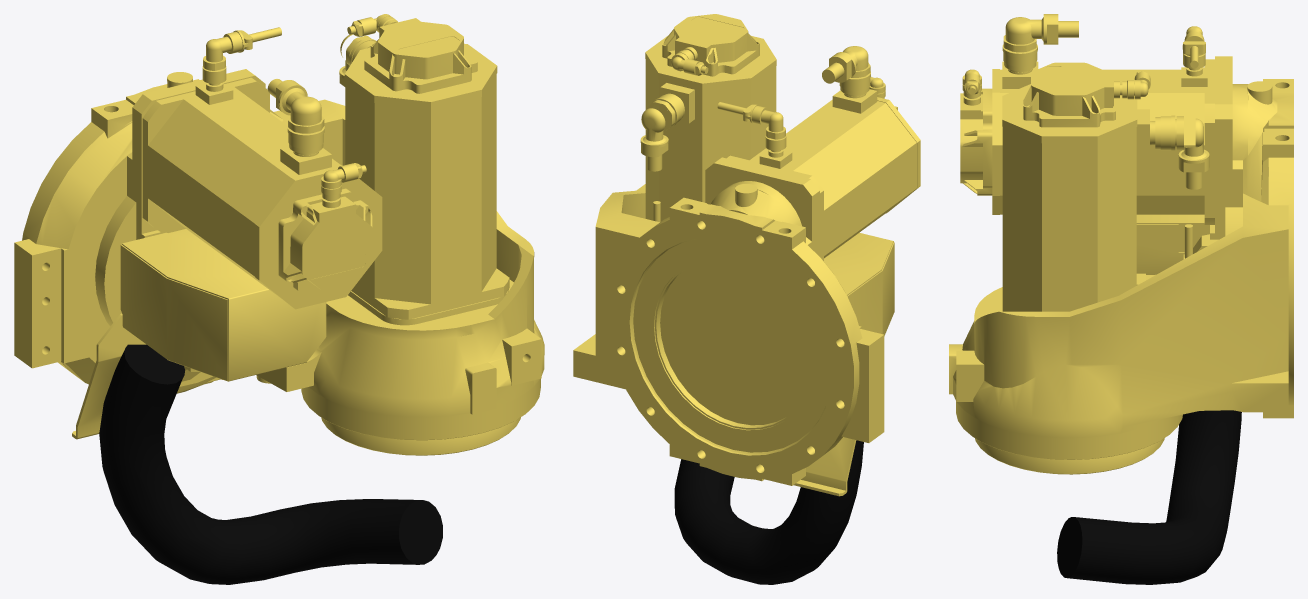
The picture shows the model from 3 angles, left to right: view 1: azimuth 30°, elevation 25°; view 2: azimuth 150°, elevation 25°; view 3: azimuth 270°, elevation 25°; orthographic projection. The views are drawn at different scales.
Visible parts, largest first — view 1: /Node_0x7fd4b585cda0_001/meshId1_name_006-mesh/0, /Node_0x7fd4b585cda0/meshId0_name_010-mesh/0; view 2: /Node_0x7fd4b585cda0_001/meshId1_name_006-mesh/0, /Node_0x7fd4b585cda0/meshId0_name_010-mesh/0; view 3: /Node_0x7fd4b585cda0_001/meshId1_name_006-mesh/0, /Node_0x7fd4b585cda0/meshId0_name_010-mesh/0.
Part boxes in pixels (x1,y1,x2,y2): /Node_0x7fd4b585cda0_001/meshId1_name_006-mesh/0: (14,14,544,455); /Node_0x7fd4b585cda0/meshId0_name_010-mesh/0: (99,344,442,584); /Node_0x7fd4b585cda0_001/meshId1_name_006-mesh/0: (573,14,920,496); /Node_0x7fd4b585cda0/meshId0_name_010-mesh/0: (674,440,863,584); /Node_0x7fd4b585cda0_001/meshId1_name_006-mesh/0: (949,14,1293,474); /Node_0x7fd4b585cda0/meshId0_name_010-mesh/0: (1057,410,1241,584).
Bounding box in the file's own units: 0.428 × 0.5717 × 0.3344.
